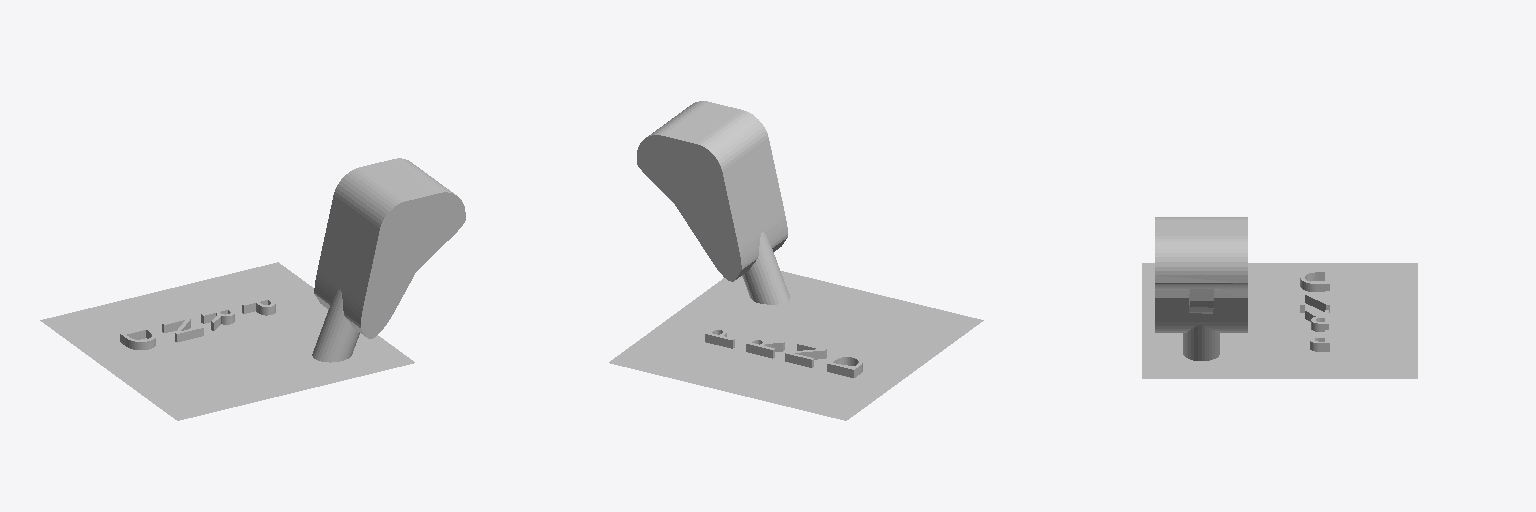
The model's file is menjalnik.obj.
3 views of the same model, side by side, from view 1: azimuth 30°, elevation 25°; view 2: azimuth 150°, elevation 25°; view 3: azimuth 270°, elevation 25° (orthographic).
Parts seen in each view (by area): view 1: Plane, Cube.001, Cylinder, Text.003, Text.002; view 2: Plane, Cube.001, Cylinder, Text.002, Text.003, Text.001; view 3: Plane, Cube.001, Cylinder, Text.003.
Boxes of the visible parts, box(x1,y1,x2,y2) form: Plane: box(40, 262, 414, 420); Cube.001: box(314, 158, 465, 338); Cylinder: box(312, 289, 359, 362); Text.003: box(120, 327, 155, 349); Text.002: box(162, 317, 203, 342); Plane: box(609, 271, 983, 420); Cube.001: box(637, 101, 787, 281); Cylinder: box(742, 232, 789, 304); Text.002: box(785, 342, 826, 367); Text.003: box(827, 355, 862, 377); Text.001: box(746, 338, 784, 358); Plane: box(1142, 263, 1417, 378); Cube.001: box(1155, 217, 1247, 332); Cylinder: box(1183, 325, 1219, 360); Text.003: box(1300, 271, 1329, 291).
Bounding box in the file's own units: 7.33 × 3.75 × 5.93.